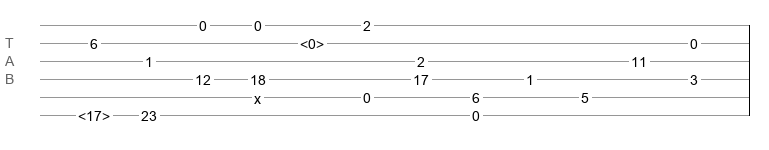0: (199, 18, 207, 28), (254, 18, 262, 28), (363, 90, 371, 100), (472, 108, 480, 118), (690, 36, 698, 46)
1: (145, 54, 153, 64), (526, 72, 534, 82)
11: (631, 54, 647, 64)
12: (195, 72, 211, 82)
17: (413, 72, 429, 82)
18: (250, 72, 266, 82)
2: (363, 18, 371, 28), (417, 54, 425, 64)
23: (141, 108, 157, 118)
3: (690, 72, 698, 82)
5: (581, 90, 589, 100)
6: (90, 36, 98, 46), (472, 90, 480, 100)
harmonic: (78, 108, 110, 118), (300, 36, 324, 46)
x: (254, 91, 261, 99)
